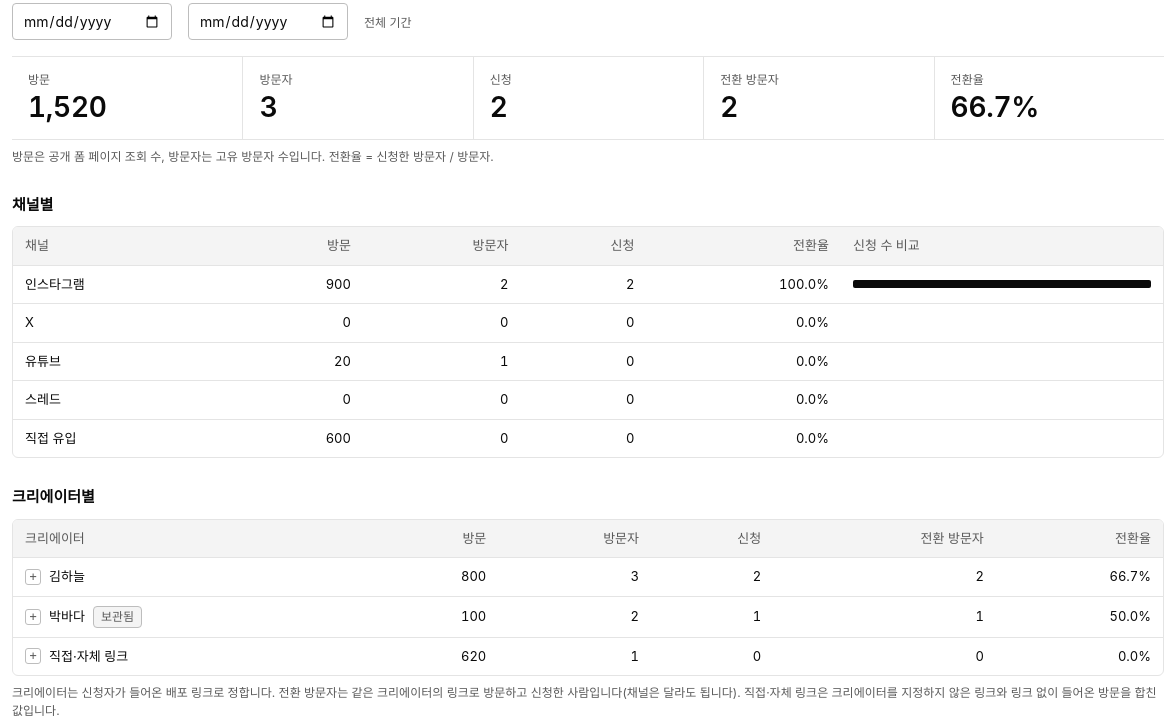
Test case: 크리에이터별 성과 › 채널별 보기를 펼치면 그 크리에이터의 채널 행이 나온다
This screenshot has width=1164, height=720.
(page scrolled)
Click the button named "직접·자체 링크 채널별 보기".
click(33, 656)  # box [25,648,41,664]
(page scrolled)
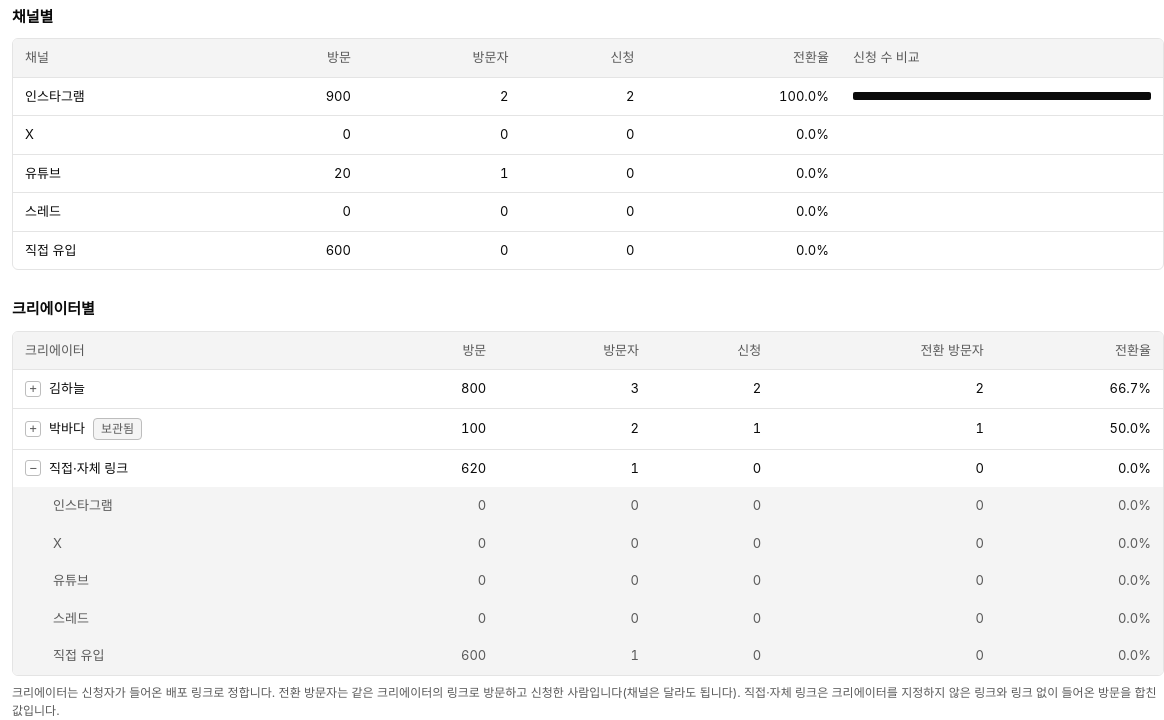
Check: the button named "직접·자체 링크 채널별 보기" is expanded, box [25,460,41,476]
Check: the text "600" below "620" is shown, box [461,647,486,663]
